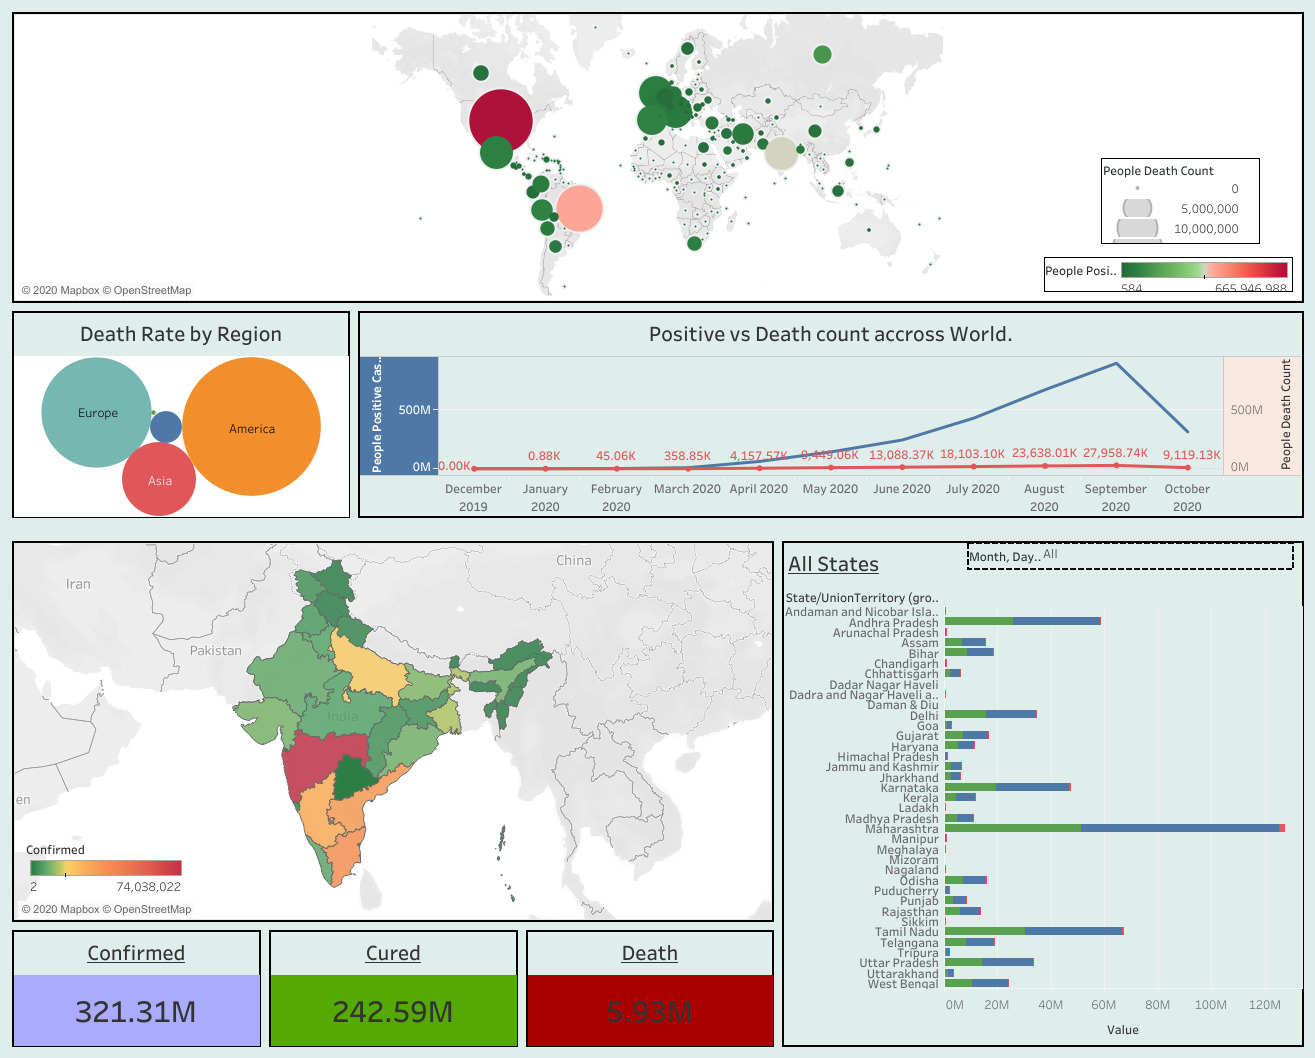

The dashboard page shown, as its layout file describes it:
{"tool":"tableau","page":{"name":"India","canvas":[1000,1000],"units":"permille","ordinal":1},"visuals":[{"type":"worksheet","box":[0,0,1000,1000]},{"type":"worksheet","param":"horz","box":[6.9,13.3,584.4,973.4]},{"type":"worksheet","box":[6.9,13.3,584.4,973.4]},{"type":"worksheet","param":"horz","box":[6.9,13.3,584.4,973.4]},{"type":"worksheet","box":[6.9,13.3,584.4,973.4]},{"type":"worksheet","param":"vert","box":[6.9,13.3,584.4,973.4]},{"type":"worksheet","box":[6.9,13.3,584.4,973.4]},{"type":"worksheet","title":"Confirmed Cases in India ","mark":"Automatic","box":[6.9,13.3,584.4,735.9]},{"type":"worksheet","title":"Sheet 12","mark":"Automatic","box":[591.3,13.3,401.7,973.4]},{"type":"worksheet","title":"Sheet 12","mark":"Automatic","param":"[federated.1n7rhmj15escqr1h45wgw02on90c].[md:Date:ok]","box":[735.1,24.9,248.5,51.5]},{"type":"worksheet","title":"Confirmed Cases in India ","mark":"Automatic","param":"[federated.1n7rhmj15escqr1h45wgw02on90c].[sum:Confirmed:qk]","box":[19.9,579.7,121.2,126.2]},{"type":"worksheet","title":"Confirmed","mark":"Automatic","box":[6.9,749.1,194.8,237.6]},{"type":"worksheet","title":"Cured","mark":"Automatic","box":[201.7,749.1,194.8,237.6]},{"type":"worksheet","title":"Death","mark":"Automatic","box":[396.5,749.1,194.8,237.6]}]}

Visuals, with their boxes on the dashboard's canvas, which has no fixed pixel size, in thousandths of its width and height (x1, y1, x2, y2). These are canvas units, not pixel positions in the 1315x1058 screenshot, which may show the page scaled, cropped or inside an application window:
worksheet: rect(0, 0, 1000, 1000)
worksheet: rect(7, 13, 591, 987)
worksheet: rect(7, 13, 591, 987)
worksheet: rect(7, 13, 591, 987)
worksheet: rect(7, 13, 591, 987)
worksheet: rect(7, 13, 591, 987)
worksheet: rect(7, 13, 591, 987)
"Confirmed Cases in India " worksheet: rect(7, 13, 591, 749)
"Sheet 12" worksheet: rect(591, 13, 993, 987)
"Sheet 12" worksheet: rect(735, 25, 984, 76)
"Confirmed Cases in India " worksheet: rect(20, 580, 141, 706)
"Confirmed" worksheet: rect(7, 749, 202, 987)
"Cured" worksheet: rect(202, 749, 396, 987)
"Death" worksheet: rect(396, 749, 591, 987)
